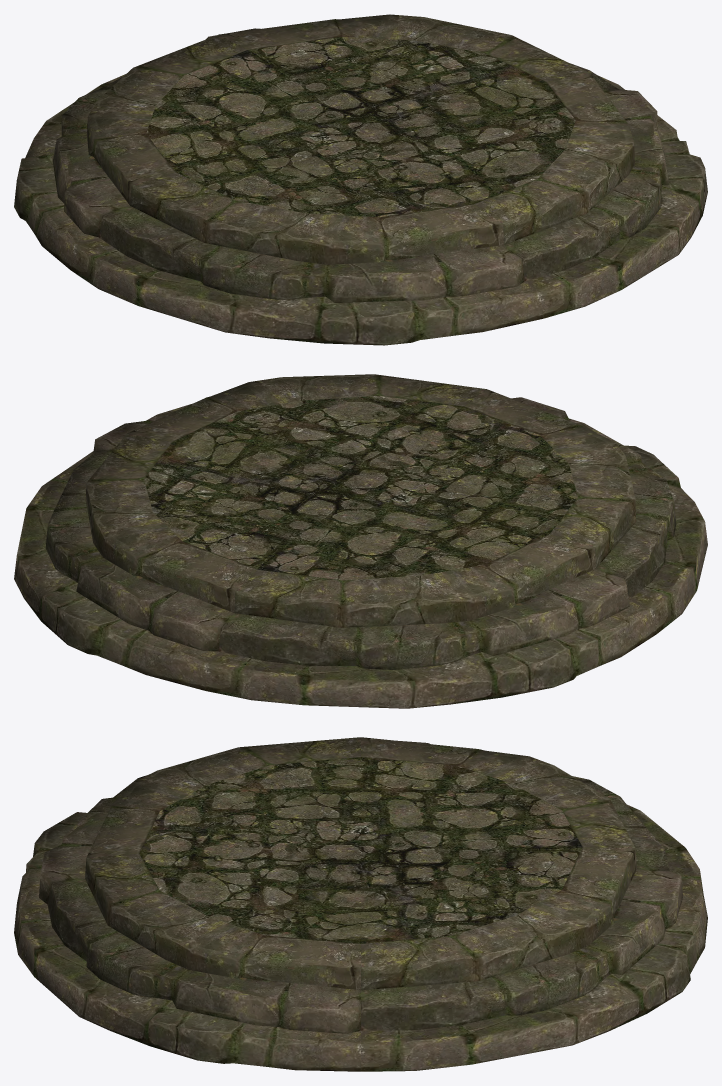
The model's file is Plaza_Circle_01-transformed.glb.
The picture shows the model from 3 angles, top to bottom: view 1: azimuth 30°, elevation 25°; view 2: azimuth 150°, elevation 25°; view 3: azimuth 270°, elevation 25°; orthographic projection. The views are drawn at different scales.
Parts seen in each view (by area): view 1: default; view 2: default; view 3: default.
Boxes of the visible parts, x1,y1,x2,y2 form: default: (14, 14, 707, 345); default: (14, 374, 707, 708); default: (14, 737, 707, 1071).
Bounding box in the file's own units: 9.41 × 1.12 × 9.42.
2 materials, 2 textured.
